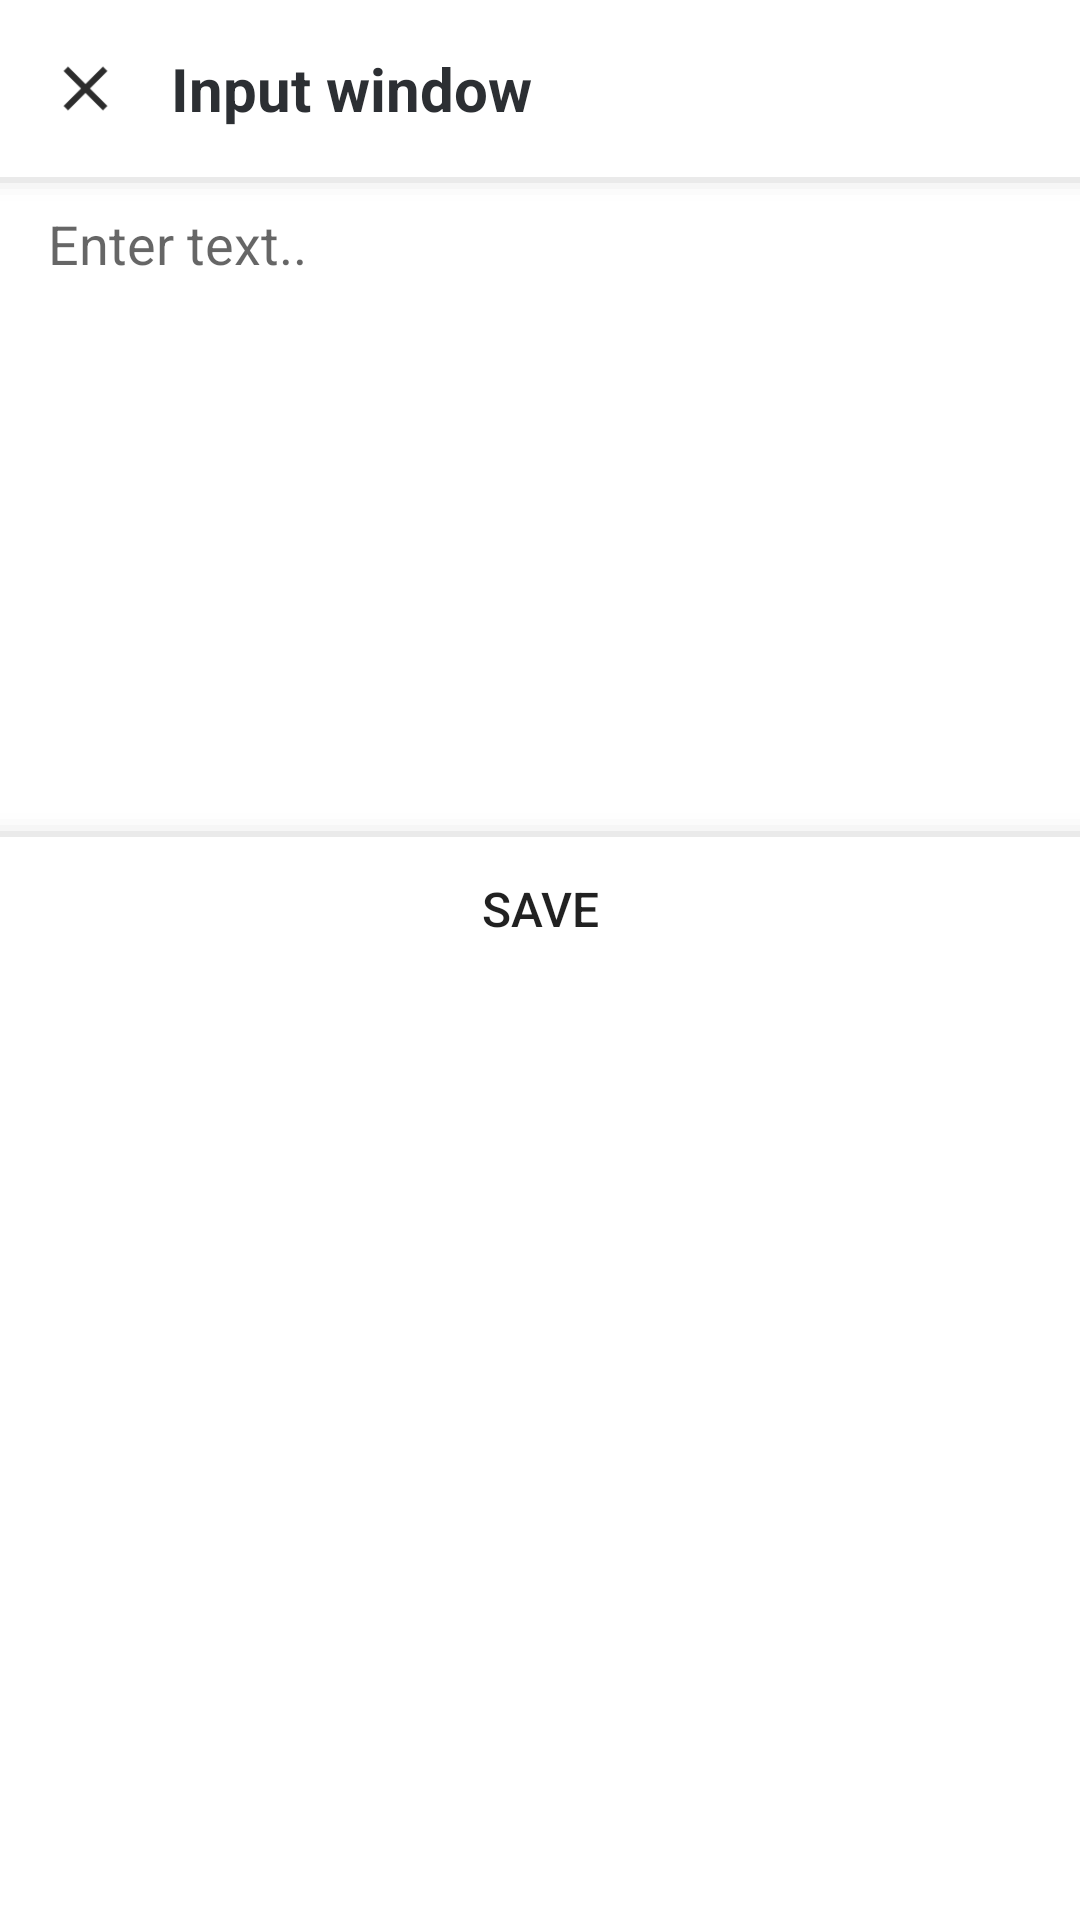

Icon bounding boxes for this 1080×1920 phone screenshot, format (x1, y1, x2, y2):
close: (63, 66, 108, 111)
